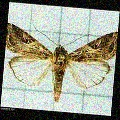Spodoptera litura: (5, 26, 115, 102)
